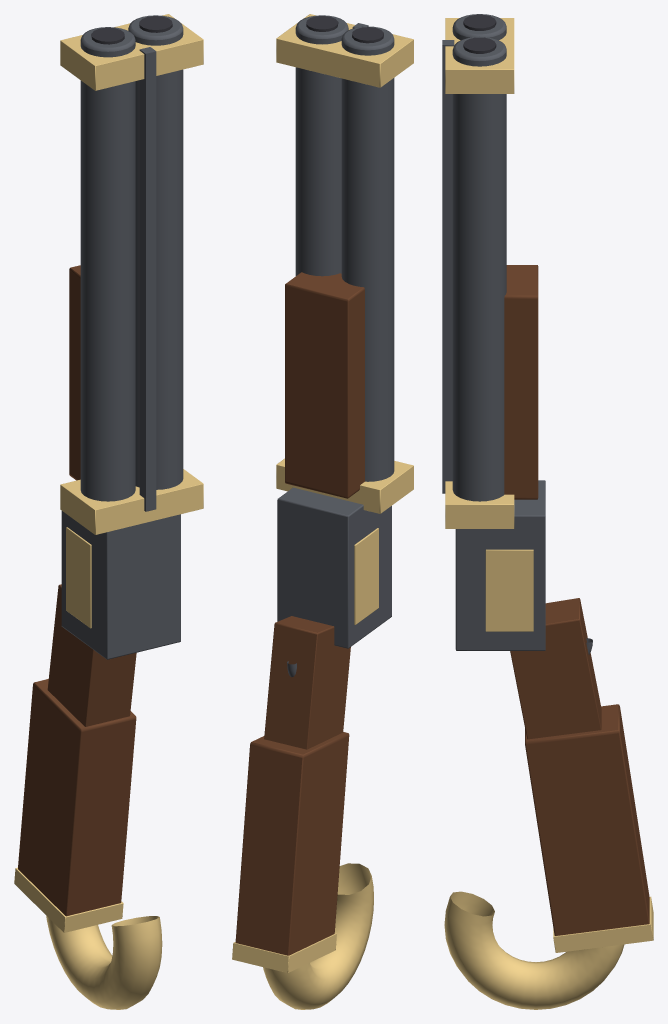
Rendered from shotgun.glb.
The picture shows the model from 3 angles, left to right: view 1: azimuth 30°, elevation 25°; view 2: azimuth 150°, elevation 25°; view 3: azimuth 270°, elevation 25°; orthographic projection. The views are drawn at different scales.
Parts seen in each view (by area): view 1: Shotgun_export; view 2: Shotgun_export; view 3: Shotgun_export.
Boxes of the visible parts, left/top/right/bottom form: Shotgun_export: left=14, top=14, right=203, bottom=1009; Shotgun_export: left=232, top=14, right=413, bottom=1009; Shotgun_export: left=442, top=14, right=653, bottom=1009.
Size of the model in its own units: 0.0918 by 0.8033 by 0.1579.
